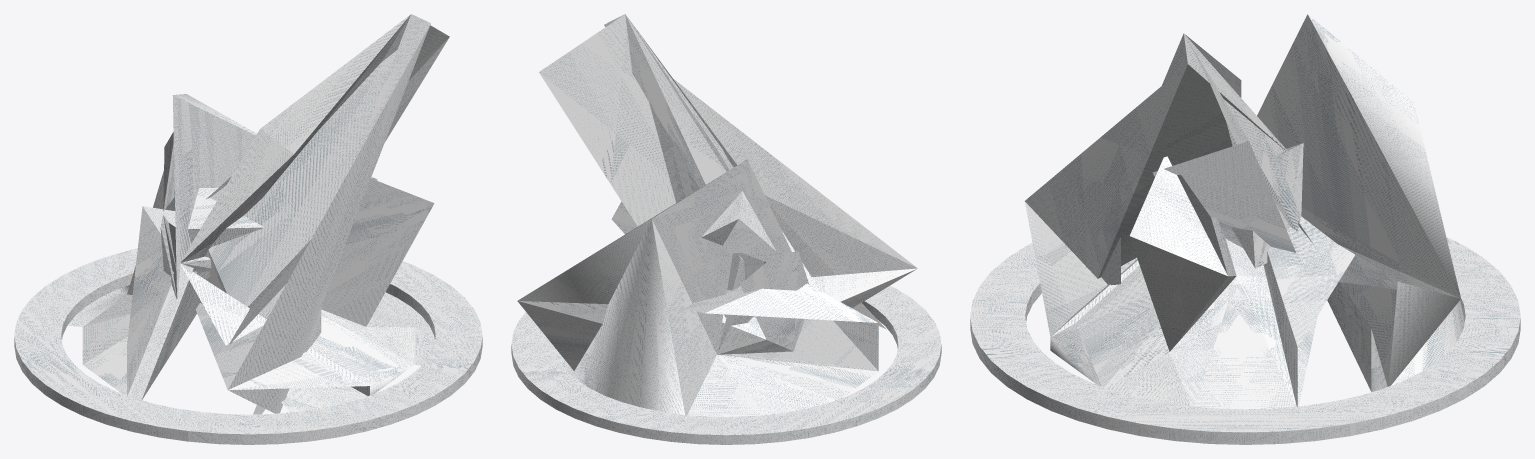
Rendered from altar.dae.
3 renders of one model, left to right at view 1: azimuth 30°, elevation 25°; view 2: azimuth 150°, elevation 25°; view 3: azimuth 270°, elevation 25°, orthographic. The views are drawn at different scales.
Visible parts, largest first — view 1: SketchUp; view 2: SketchUp (×2); view 3: SketchUp (×2).
Part boxes in pixels (<box>): SketchUp: <box>14,14,482,444</box>; SketchUp (×2): <box>511,14,941,444</box>; SketchUp (×2): <box>970,14,1520,444</box>.
Size of the model in its own units: 120 by 120 by 93.44.
